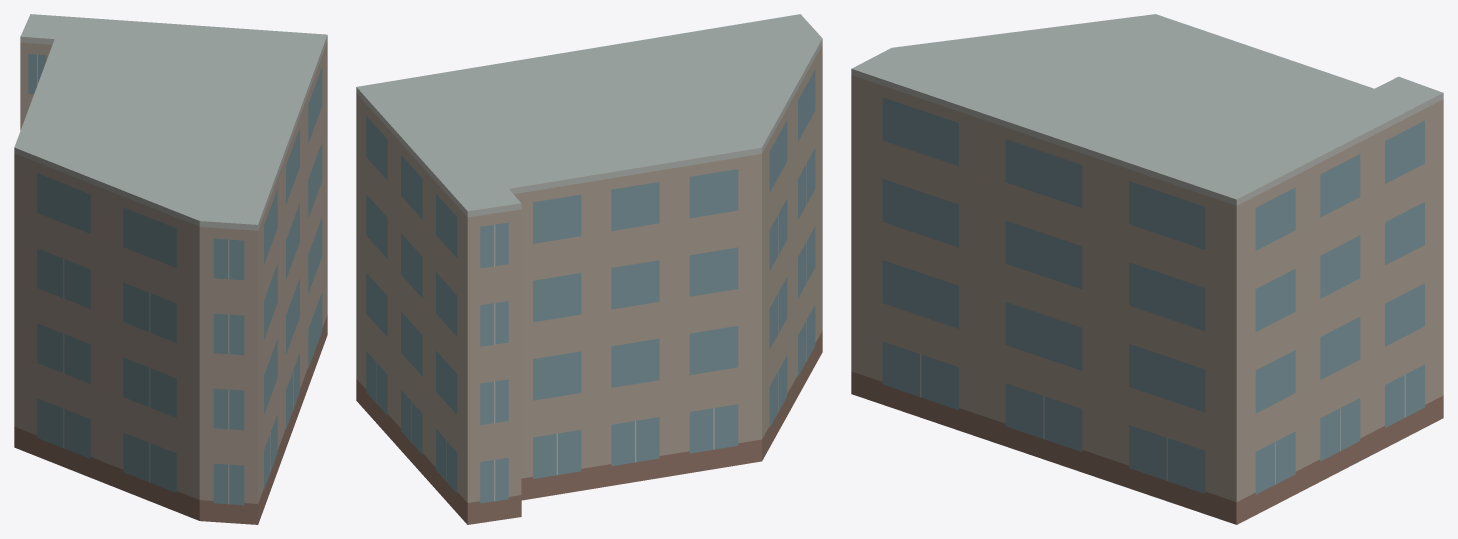
The model's file is survey-upis-32525880.glb.
3 views of the same model, side by side, from view 1: azimuth 30°, elevation 25°; view 2: azimuth 150°, elevation 25°; view 3: azimuth 270°, elevation 25° (orthographic). The views are drawn at different scales.
Visible parts, largest first — view 1: survey-upis-32525880.tmp; view 2: survey-upis-32525880.tmp; view 3: survey-upis-32525880.tmp.
Boxes of the visible parts, bbox=[...] form: survey-upis-32525880.tmp: bbox=[14, 14, 327, 524]; survey-upis-32525880.tmp: bbox=[356, 14, 822, 524]; survey-upis-32525880.tmp: bbox=[851, 14, 1443, 524].
Size of the model in its own units: 15.4 by 12.58 by 20.76.
